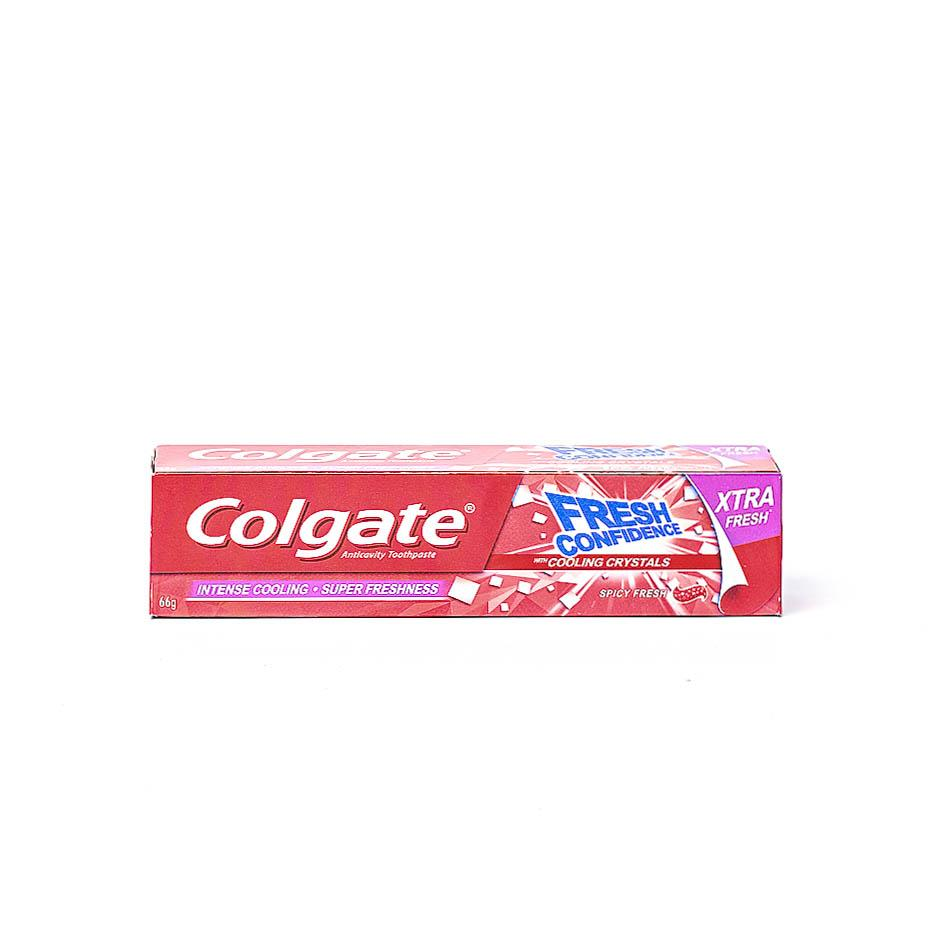toothpaste: (140, 439, 795, 634)
